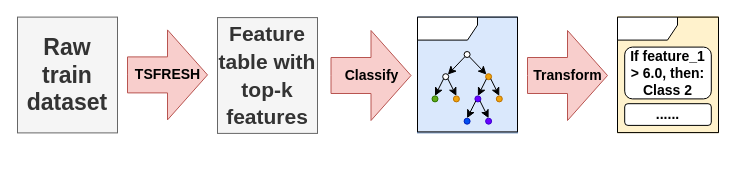
This 736x169 diagram has some shape labels left out. The box of each missing label's shape, as (x1, y1, x2, y2) in pixels:
Rules: (616, 16, 718, 133)
Tree: (416, 16, 518, 132)
